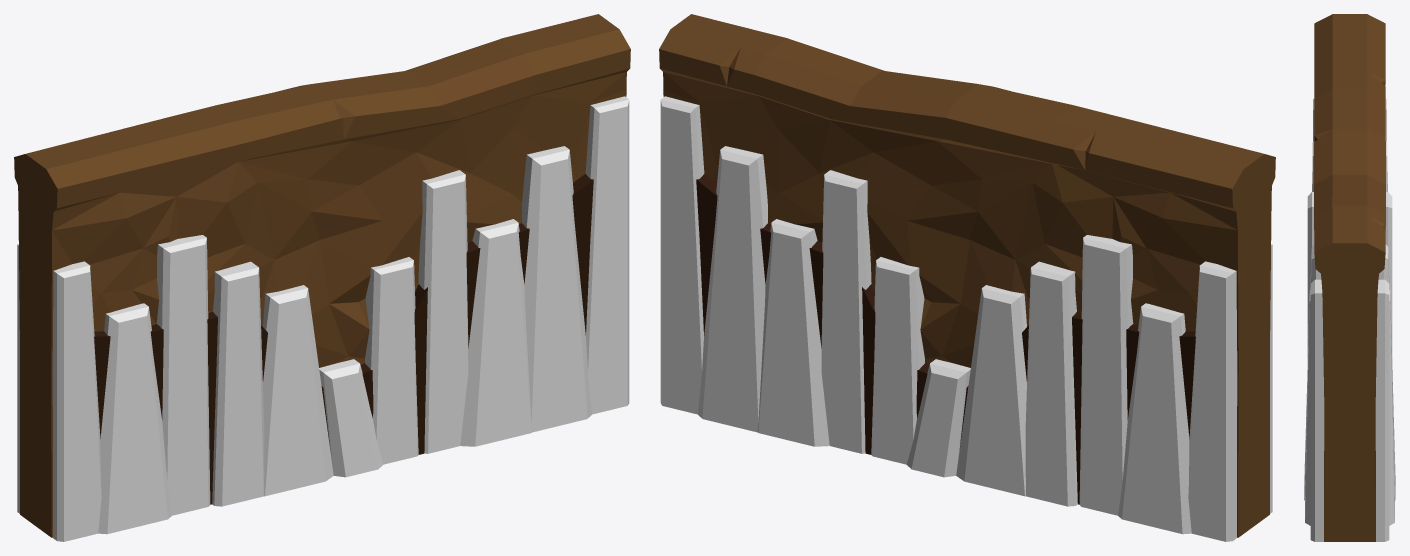
The model's file is WoodWall.fbx.
3 renders of one model, left to right at view 1: azimuth 30°, elevation 25°; view 2: azimuth 150°, elevation 25°; view 3: azimuth 270°, elevation 25°, orthographic. The views are drawn at different scales.
Parts seen in each view (by area): view 1: WoodWall_LOD0, Planks2_LOD0, Planks1_LOD0; view 2: WoodWall_LOD0, Planks2_LOD0, Planks1_LOD0; view 3: WoodWall_LOD0, Planks2_LOD0, Planks1_LOD0.
Boxes of the visible parts, x1,y1,x2,y2 form: WoodWall_LOD0: (14, 14, 630, 537); Planks2_LOD0: (98, 96, 629, 534); Planks1_LOD0: (17, 146, 591, 541); WoodWall_LOD0: (659, 14, 1275, 537); Planks2_LOD0: (660, 96, 1191, 534); Planks1_LOD0: (698, 146, 1272, 541); WoodWall_LOD0: (1314, 14, 1385, 541); Planks2_LOD0: (1304, 141, 1395, 541); Planks1_LOD0: (1305, 98, 1394, 525).
Size of what is drawn, in the model's own units: 402 by 250 by 67.34.
